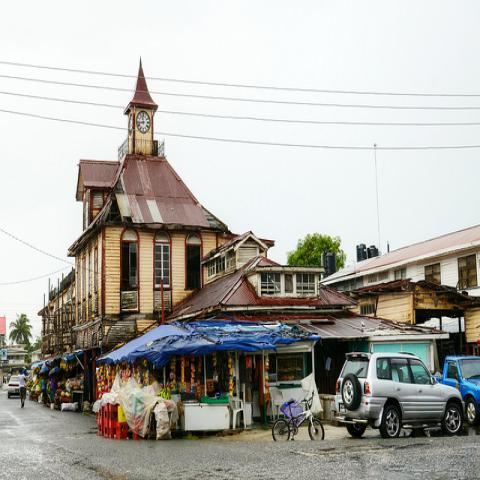car: (334, 351, 466, 440), (8, 376, 20, 398)
truck: (414, 356, 480, 426)
